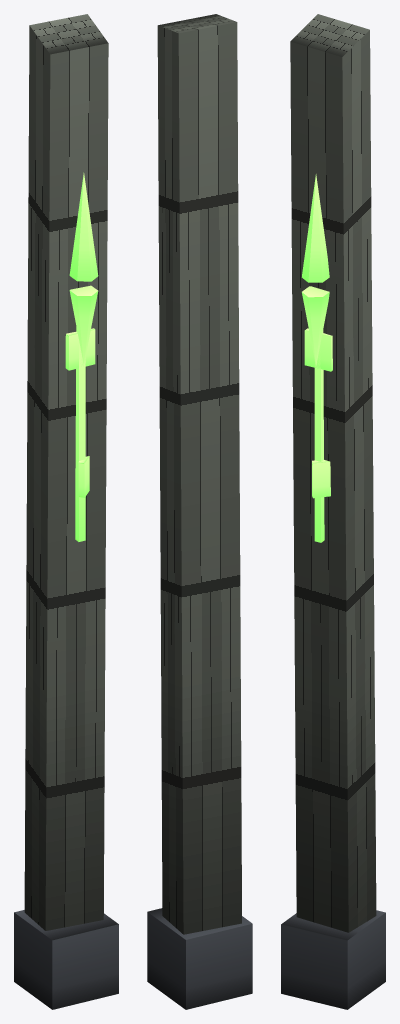
The model's file is standing_stone.gltf.
3 views of the same model, side by side, from view 1: azimuth 30°, elevation 25°; view 2: azimuth 210°, elevation 25°; view 3: azimuth 330°, elevation 25° (orthographic).
Visible parts, largest first — view 1: standing_stone; view 2: standing_stone; view 3: standing_stone.
Part boxes in pixels (x1,y1,x2,y2): standing_stone: (14, 14, 118, 1009); standing_stone: (147, 14, 252, 1009); standing_stone: (281, 14, 385, 1009).
Size of the model in its own units: 1 by 13.82 by 1.15.
Materials: 1 (1 with a texture image).
